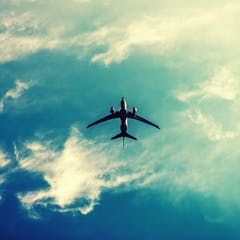aeroplane: (85, 95, 160, 147)
